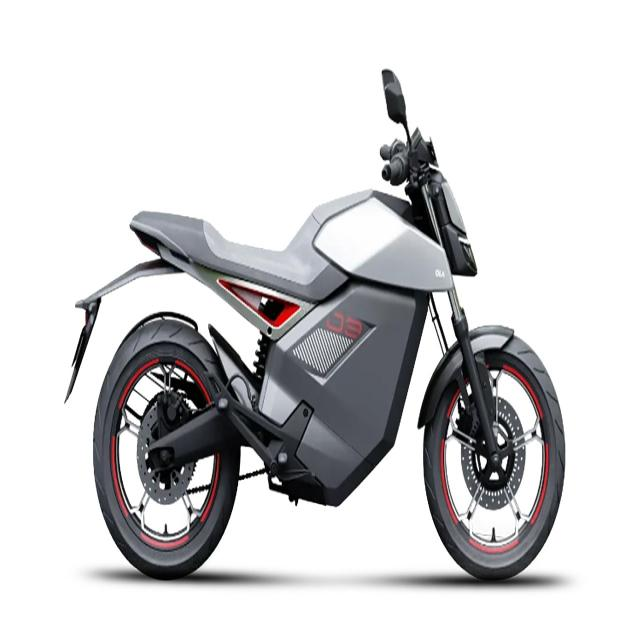Bike: (62, 126, 568, 582)
